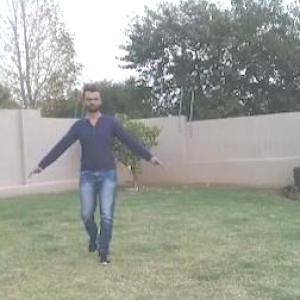land: (15, 73, 172, 280)
